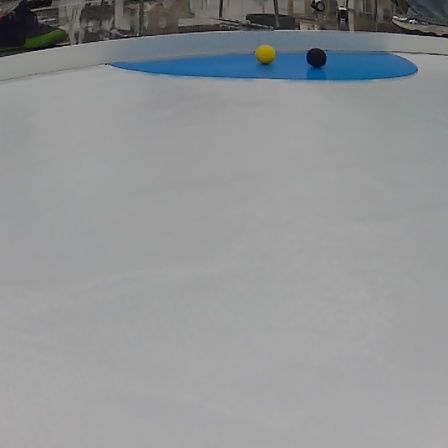black: (307, 45, 330, 67)
blue_base: (109, 52, 419, 84)
yellow: (254, 44, 277, 64)
